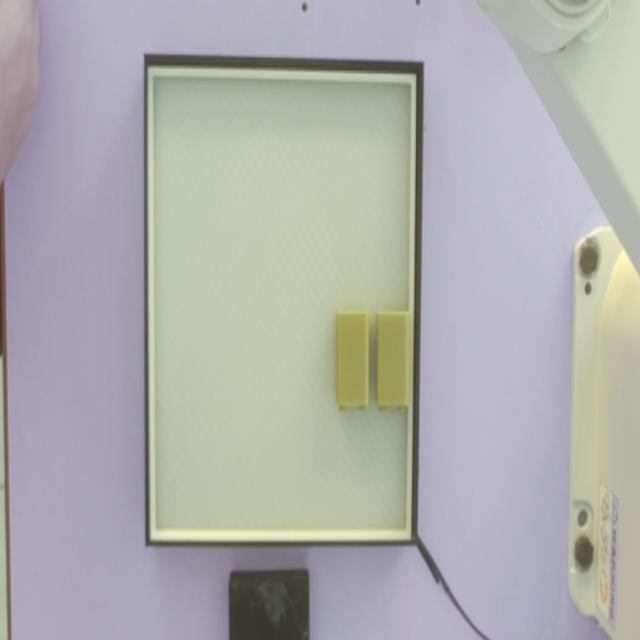bateria: (336, 311, 369, 411), (376, 313, 409, 413)
mesa: (143, 54, 424, 547)
